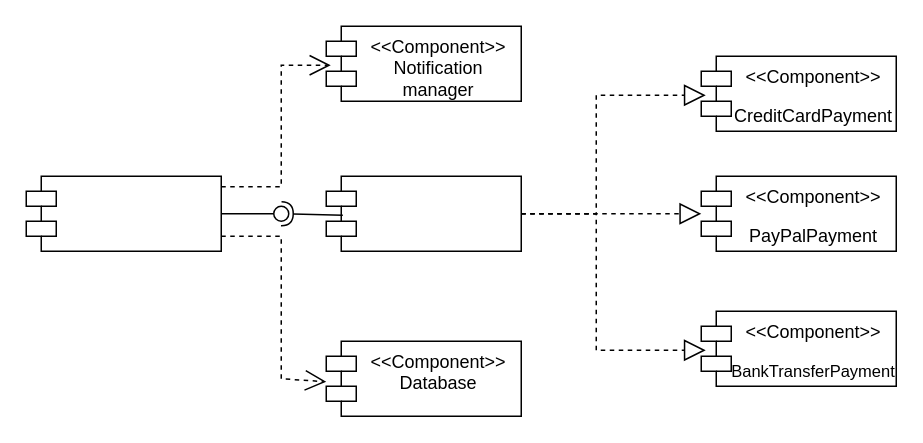
Some shapes in this 923 by 443 pixel diagram are drawn without their labels. The shapes that lost their labels are listed below. From the top down, each one's centre as x and y in pixels, then its label:
At pixel 123 213: "<<Component>> Payment Manager".
At pixel 423 213: "PaymentGateway".
